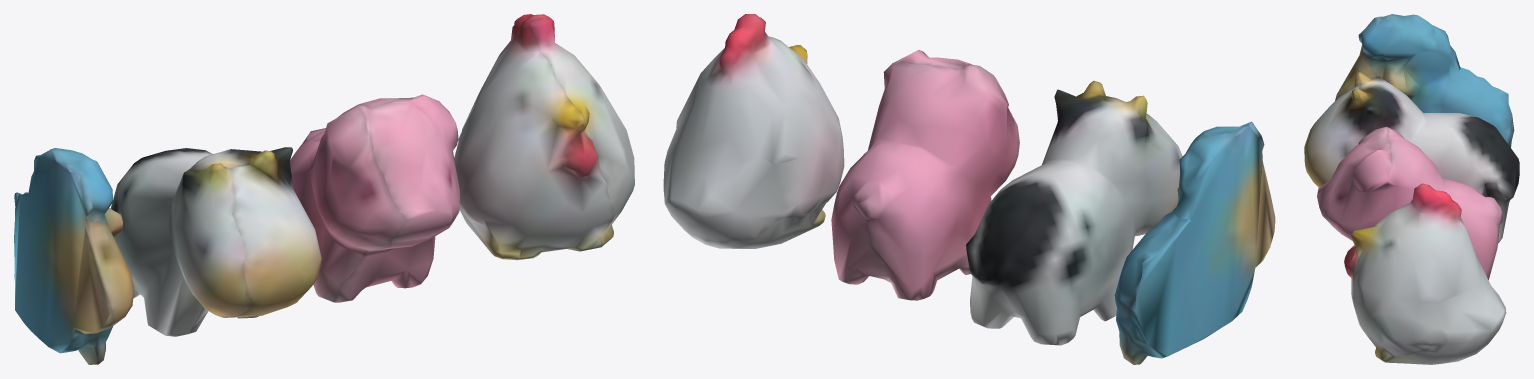
The model's file is Squirtin_Barnyard_Friends_4pk-medium.glb.
The picture shows the model from 3 angles, left to right: view 1: azimuth 30°, elevation 25°; view 2: azimuth 150°, elevation 25°; view 3: azimuth 270°, elevation 25°; orthographic projection. The views are drawn at different scales.
Visible parts, largest first — view 1: Squirtin_Barnyard_Friends_4pk; view 2: Squirtin_Barnyard_Friends_4pk; view 3: Squirtin_Barnyard_Friends_4pk.
Boxes of the visible parts, bbox=[...] form: Squirtin_Barnyard_Friends_4pk: bbox=[14, 14, 634, 364]; Squirtin_Barnyard_Friends_4pk: bbox=[663, 14, 1275, 364]; Squirtin_Barnyard_Friends_4pk: bbox=[1304, 14, 1519, 364].
Size of the model in its own units: 0.1859 by 0.0684 by 0.0806.
Materials: 1 (1 with a texture image).
